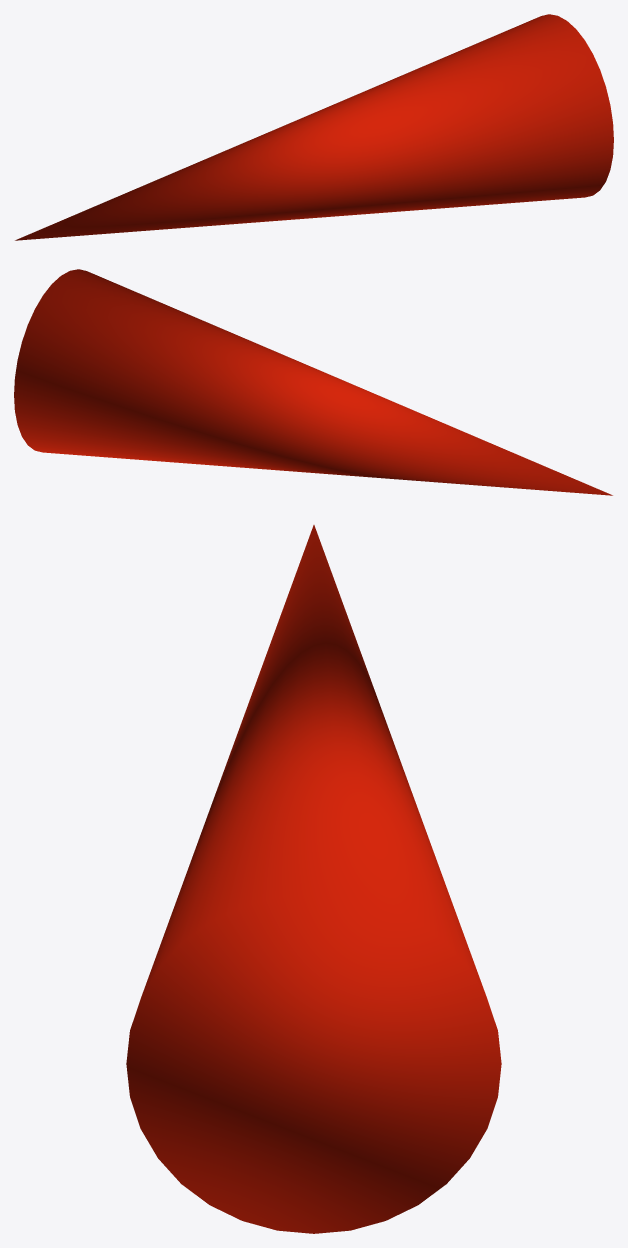
The model's file is Lazer.fbx.
The picture shows the model from 3 angles, top to bottom: view 1: azimuth 30°, elevation 25°; view 2: azimuth 150°, elevation 25°; view 3: azimuth 270°, elevation 25°; orthographic projection. The views are drawn at different scales.
Parts seen in each view (by area): view 1: Cone; view 2: Cone; view 3: Cone.
Part boxes in pixels (x1,y1,x2,y2): Cone: [15, 14, 613, 240]; Cone: [14, 269, 612, 495]; Cone: [126, 525, 501, 1233].
Size of the model in its own units: 1664 by 489 by 489.
